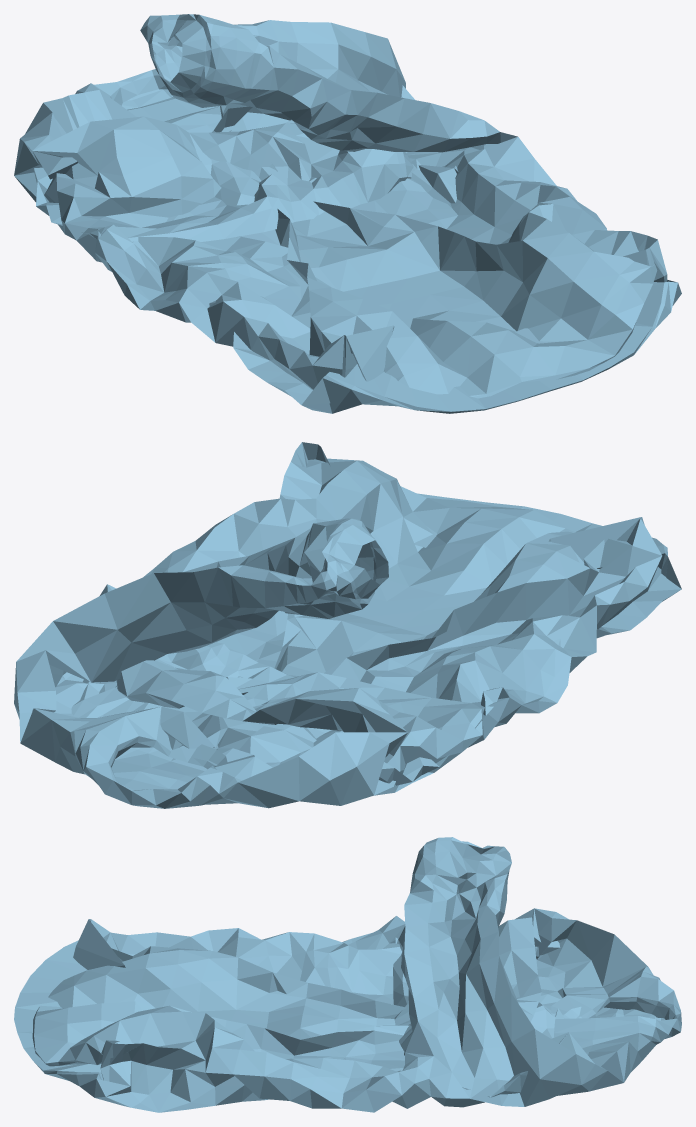
The model's file is frame_18.glb.
3 views of the same model, one above another, from view 1: azimuth 30°, elevation 25°; view 2: azimuth 150°, elevation 25°; view 3: azimuth 270°, elevation 25° (orthographic). The views are drawn at different scales.
Visible parts, largest first — view 1: frame_18.obj; view 2: frame_18.obj; view 3: frame_18.obj.
Boxes of the visible parts, box(x1,y1,x2,y2) form: frame_18.obj: box(14, 14, 681, 413); frame_18.obj: box(14, 442, 681, 808); frame_18.obj: box(14, 837, 681, 1112).
Bounding box in the file's own units: 0.9587 × 0.4952 × 1.6.
